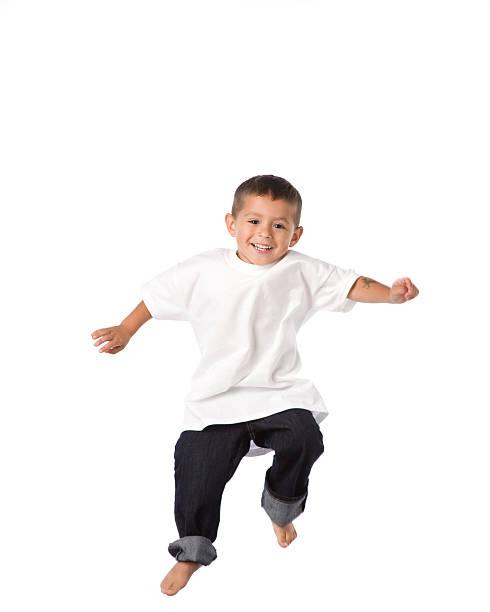Human: (106, 122, 422, 584)
